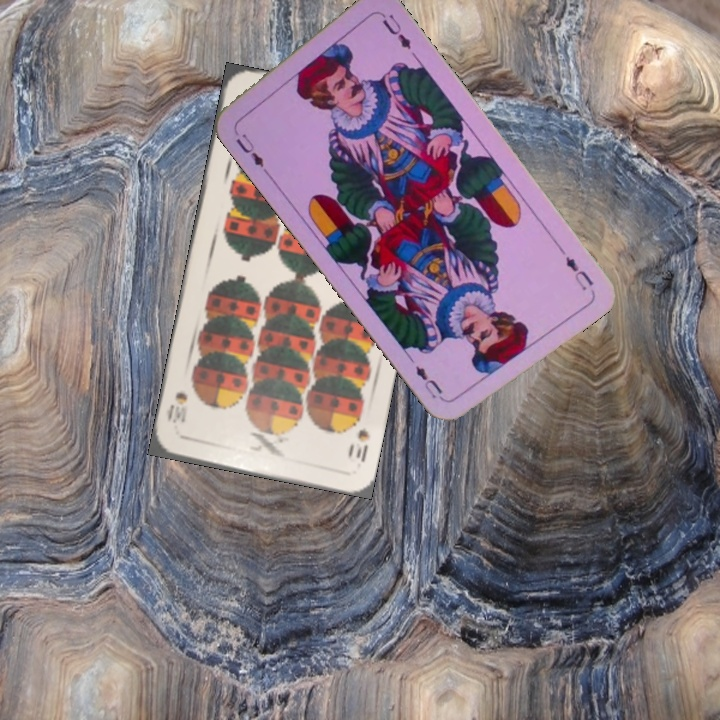EU: (229, 123, 270, 175), (561, 252, 596, 293)
S10: (343, 424, 373, 465)
